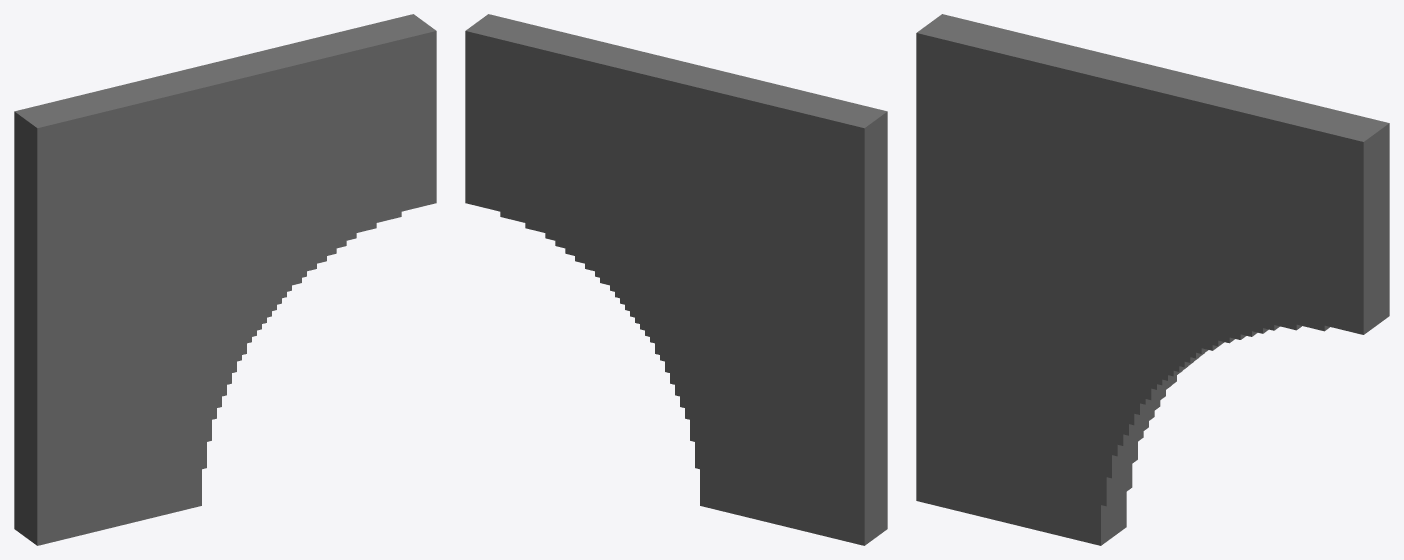
Rendered from dirtCornerCollider2.obj.
The picture shows the model from 3 angles, left to right: view 1: azimuth 30°, elevation 25°; view 2: azimuth 150°, elevation 25°; view 3: azimuth 330°, elevation 25°; orthographic projection. The views are drawn at different scales.
Visible parts, largest first — view 1: dirtCornerCollider2; view 2: dirtCornerCollider2; view 3: dirtCornerCollider2.
Boxes of the visible parts, x1,y1,x2,y2 form: dirtCornerCollider2: (14, 14, 436, 545); dirtCornerCollider2: (465, 14, 887, 545); dirtCornerCollider2: (916, 14, 1389, 545).
Bounding box in the file's own units: 80 × 80 × 8.
Materials: 1 (1 with a texture image).
